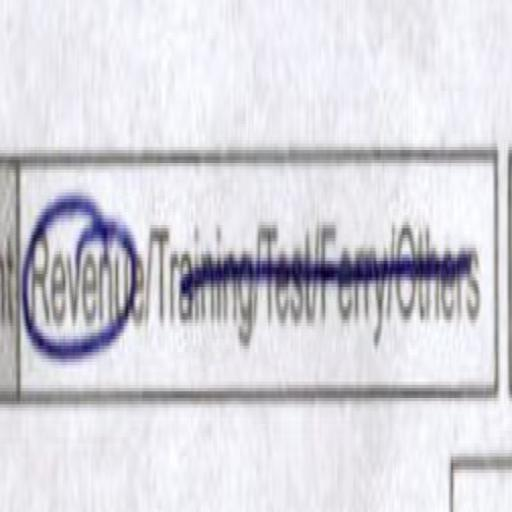check: (16, 94, 149, 423)
